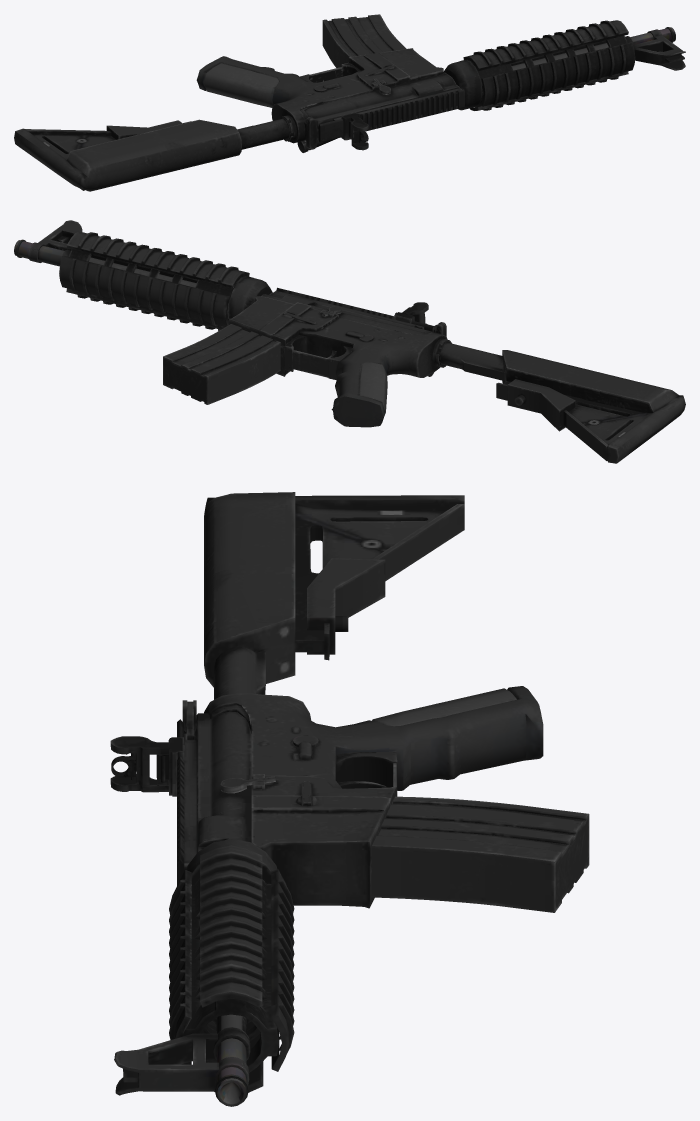
The picture shows the model from 3 angles, top to bottom: view 1: azimuth 30°, elevation 25°; view 2: azimuth 150°, elevation 25°; view 3: azimuth 270°, elevation 25°; orthographic projection. The views are drawn at different scales.
Parts seen in each view (by area): view 1: M4_upd, M4_upd_mag, M4_upd_scope; view 2: M4_upd, M4_upd_mag, M4_upd_scope; view 3: M4_upd, M4_upd_mag, M4_upd_scope.
Part boxes in pixels (x1,y1,x2,y2): M4_upd: (14,20,685,191); M4_upd_mag: (322,14,406,67); M4_upd_scope: (341,112,368,150); M4_upd: (14,220,685,463); M4_upd_mag: (163,324,280,404); M4_upd_scope: (394,302,428,324); M4_upd: (114,492,543,1106); M4_upd_mag: (371,796,589,912); M4_upd_scope: (110,736,184,796).
Bounding box in the file's own units: 0.7197 × 0.0648 × 0.2479.
1 material, 1 textured.
